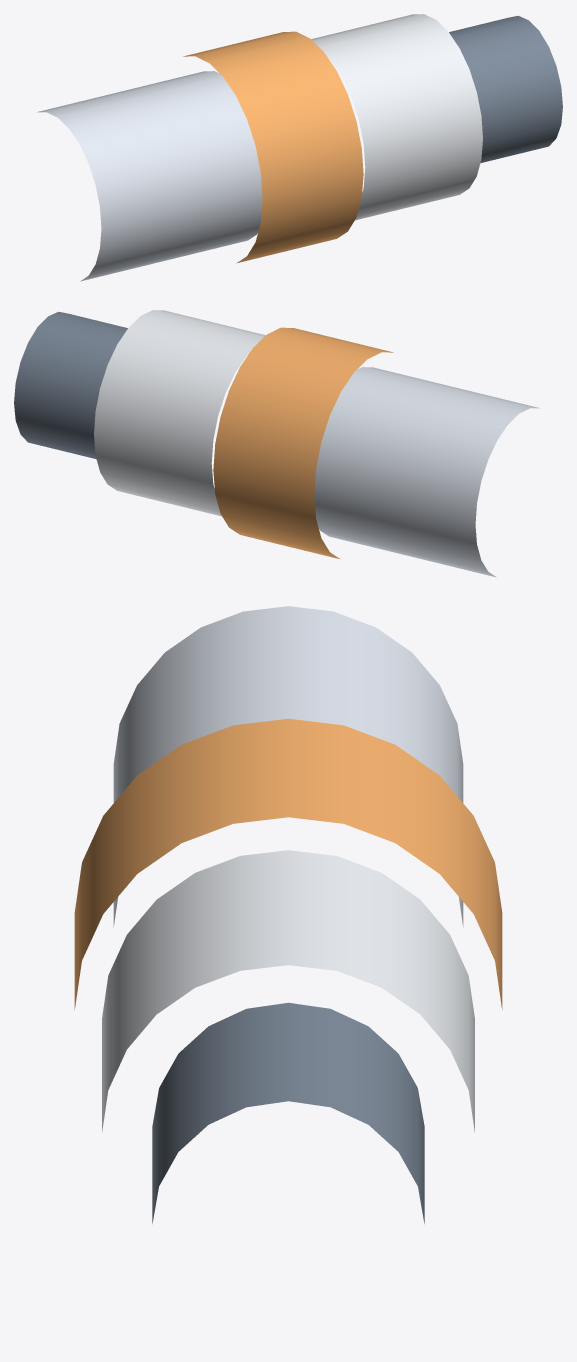
The model's file is gas_turbine_brayton.glb.
The picture shows the model from 3 angles, top to bottom: view 1: azimuth 30°, elevation 25°; view 2: azimuth 150°, elevation 25°; view 3: azimuth 270°, elevation 25°; orthographic projection. The views are drawn at different scales.
Parts seen in each view (by area): view 1: AxialCompressorRotor, HighPressureTurbineRotor, AnnularCombustionChamber, JetPropulsionExhaustNozzle; view 2: AxialCompressorRotor, HighPressureTurbineRotor, AnnularCombustionChamber, JetPropulsionExhaustNozzle; view 3: HighPressureTurbineRotor, AnnularCombustionChamber, AxialCompressorRotor, JetPropulsionExhaustNozzle.
Part boxes in pixels (x1=…): AxialCompressorRotor: x1=37, y1=71, x2=262, y2=281; HighPressureTurbineRotor: x1=311, y1=14, x2=482, y2=220; AnnularCombustionChamber: x1=183, y1=31, x2=363, y2=263; JetPropulsionExhaustNozzle: x1=449, y1=15, x2=562, y2=163; AxialCompressorRotor: x1=314, y1=367, x2=539, y2=577; HighPressureTurbineRotor: x1=94, y1=310, x2=265, y2=516; AnnularCombustionChamber: x1=213, y1=327, x2=393, y2=559; JetPropulsionExhaustNozzle: x1=14, y1=311, x2=127, y2=459; HighPressureTurbineRotor: x1=102, y1=850, x2=474, y2=1132; AnnularCombustionChamber: x1=74, y1=718, x2=502, y2=1009; AxialCompressorRotor: x1=113, y1=606, x2=463, y2=926; JetPropulsionExhaustNozzle: x1=152, y1=1002, x2=424, y2=1223.
Bounding box in the file's own units: 2.8 × 1.1 × 1.1.
